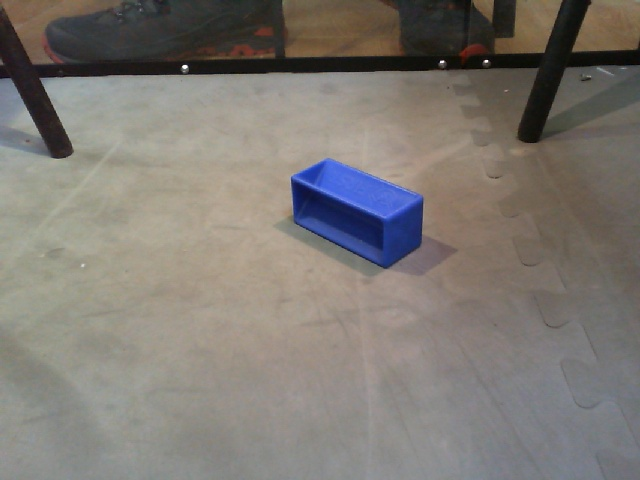BlueSample: (288, 157, 429, 270)
